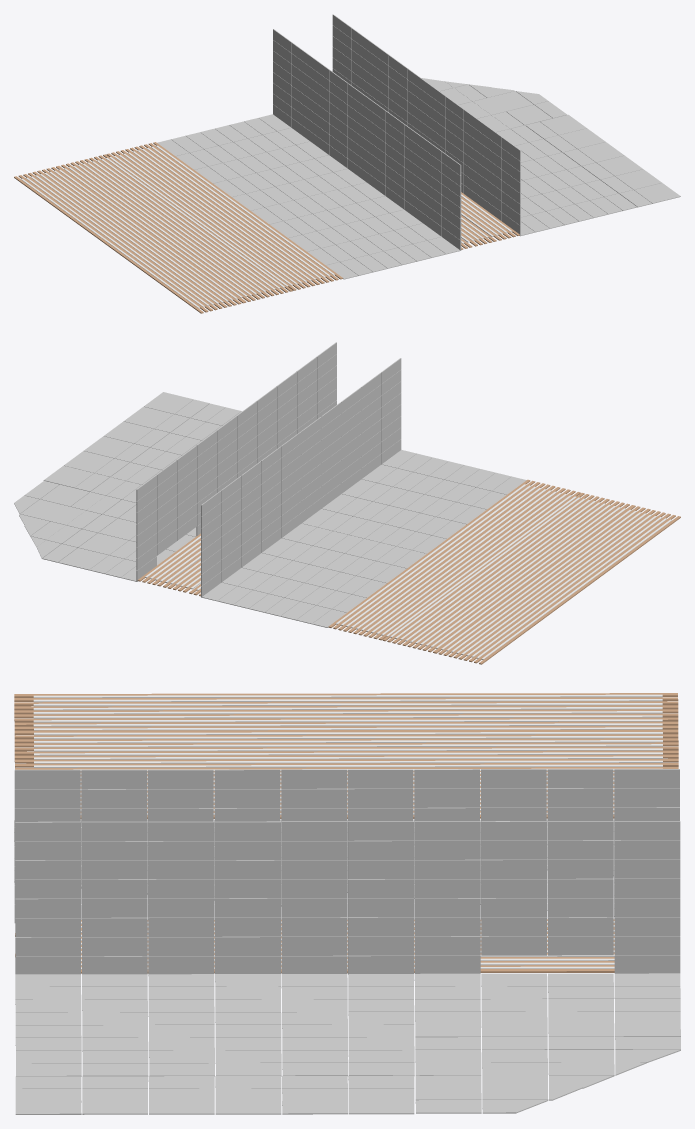
Rendered from Sealing.fbx.
3 views of the same model, one above another, from view 1: azimuth 30°, elevation 25°; view 2: azimuth 150°, elevation 25°; view 3: azimuth 270°, elevation 25° (orthographic). The views are drawn at different scales.
Visible parts, largest first — view 1: sv-408; view 2: sv-408; view 3: sv-408.
Boxes of the visible parts, <box> form: sv-408: <box>14,14,680,313</box>; sv-408: <box>14,342,680,664</box>; sv-408: <box>14,693,680,1114</box>.
Size of the model in its own units: 9132 by 1554 by 6145.
